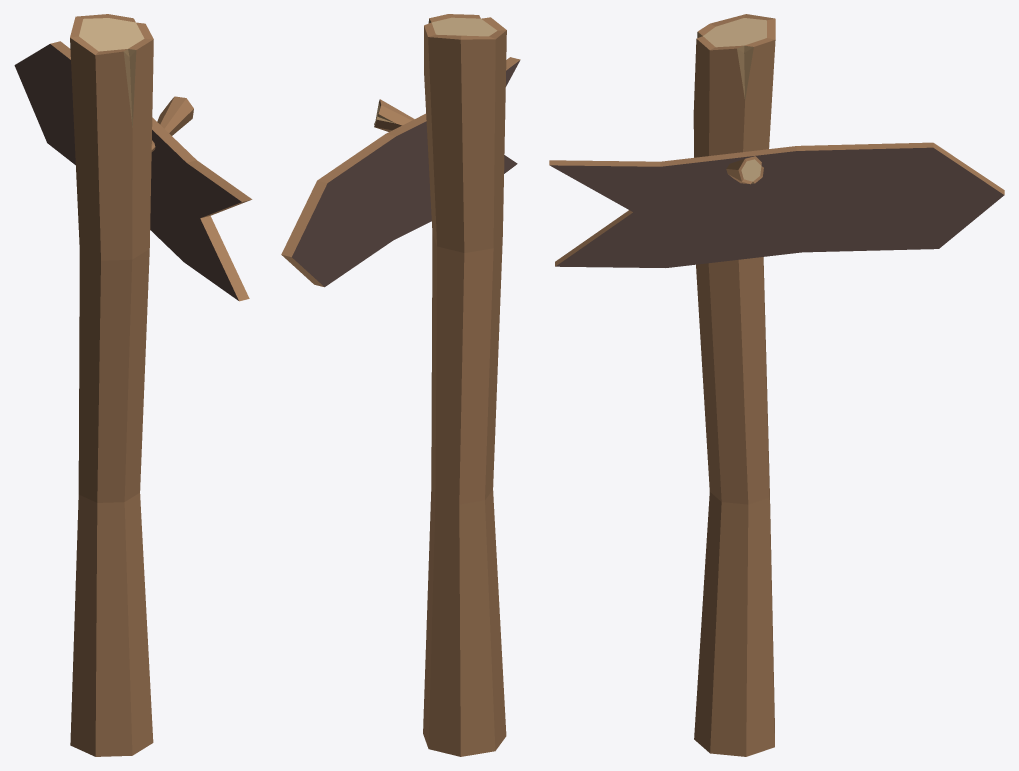
File: Sign_01.glb
The picture shows the model from 3 angles, left to right: view 1: azimuth 30°, elevation 25°; view 2: azimuth 150°, elevation 25°; view 3: azimuth 270°, elevation 25°; orthographic projection.
Visible parts, largest first — view 1: Sign_01; view 2: Sign_01; view 3: Sign_01.
Boxes of the visible parts, bbox=[...] form: Sign_01: bbox=[14, 14, 252, 756]; Sign_01: bbox=[281, 14, 520, 756]; Sign_01: bbox=[549, 14, 1004, 756].
Size of what is drawn, in the model's own units: 0.3756 by 2.12 by 1.23.
Materials: 1 (1 with a texture image).
